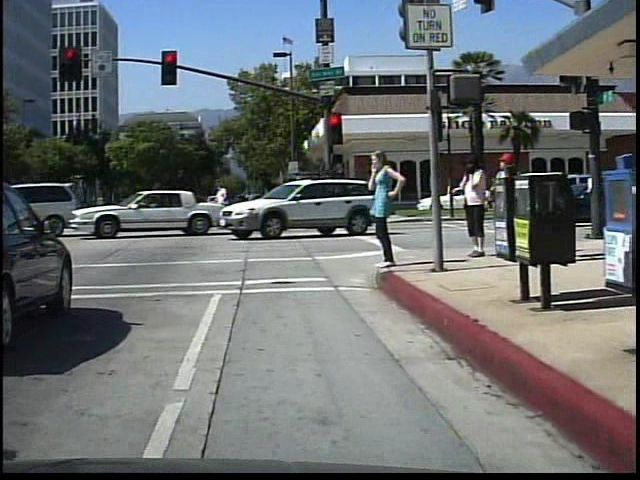person: (364, 147, 406, 276), (484, 146, 523, 259), (454, 148, 491, 260)
